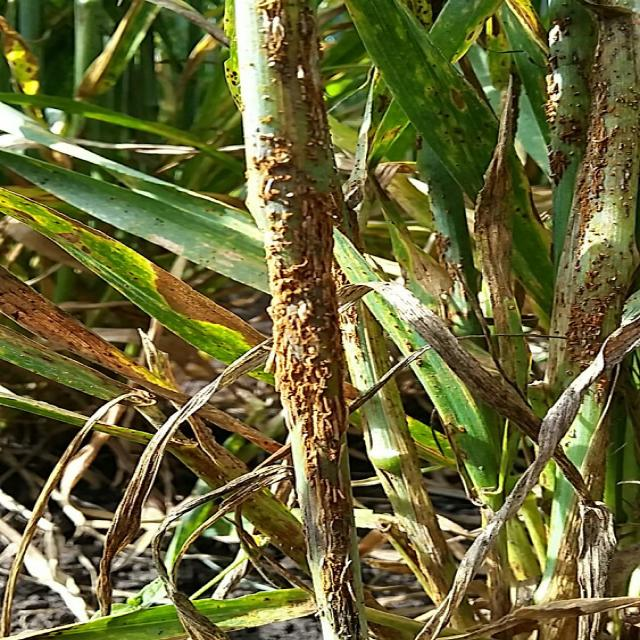wheat-septoria: (0, 184, 264, 365)
wheat-stemrust: (234, 0, 360, 640), (548, 0, 640, 387)
